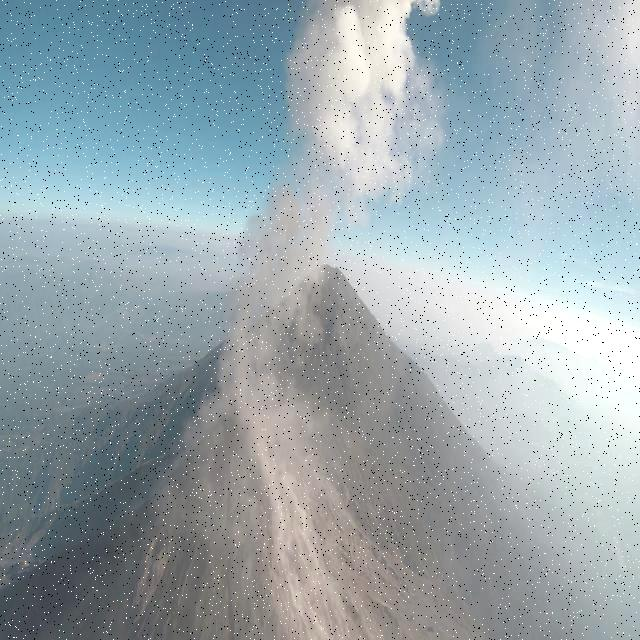Plume: (282, 0, 447, 220), (218, 183, 340, 424)
